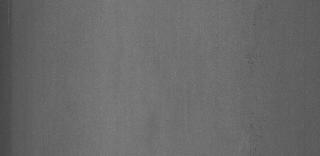silk spot: (232, 111, 268, 155)
